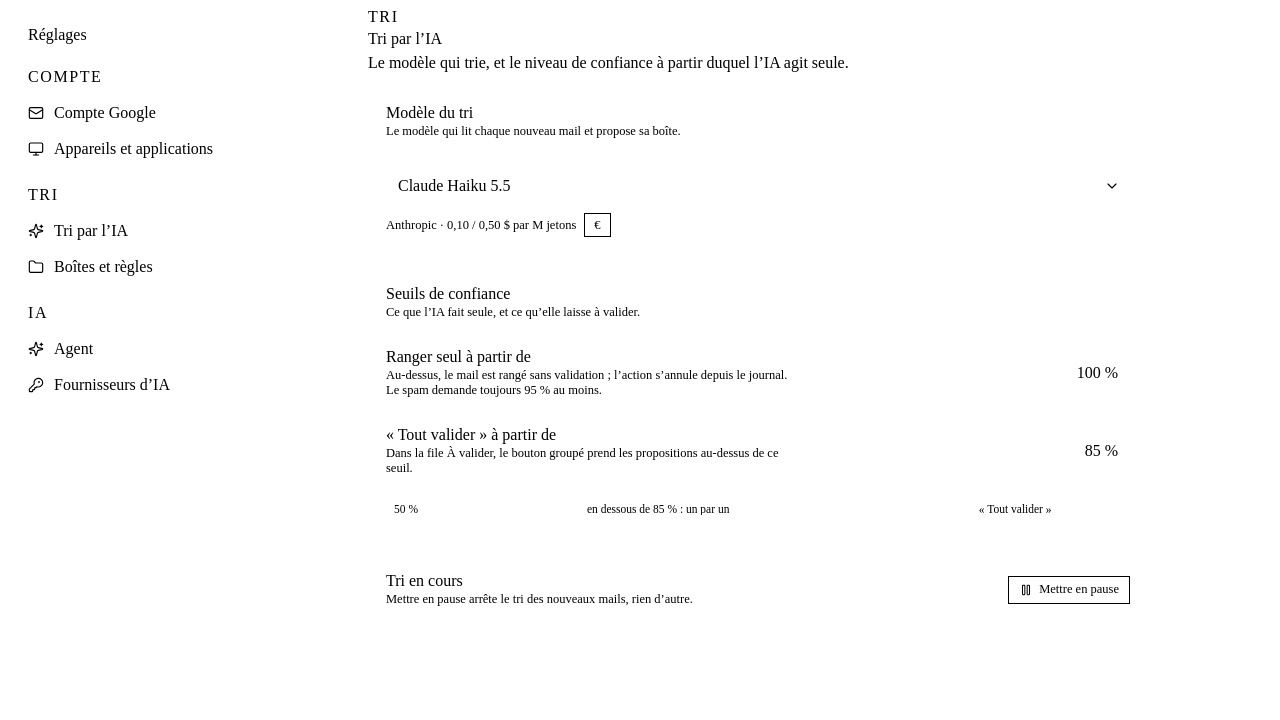
Settings › adds a rule by completing the sentence
Expected: the heading "Réglages" is shown, [28, 26, 87, 43]
Click the link "Boîtes et règles" at (90, 266), box [28, 258, 153, 275]
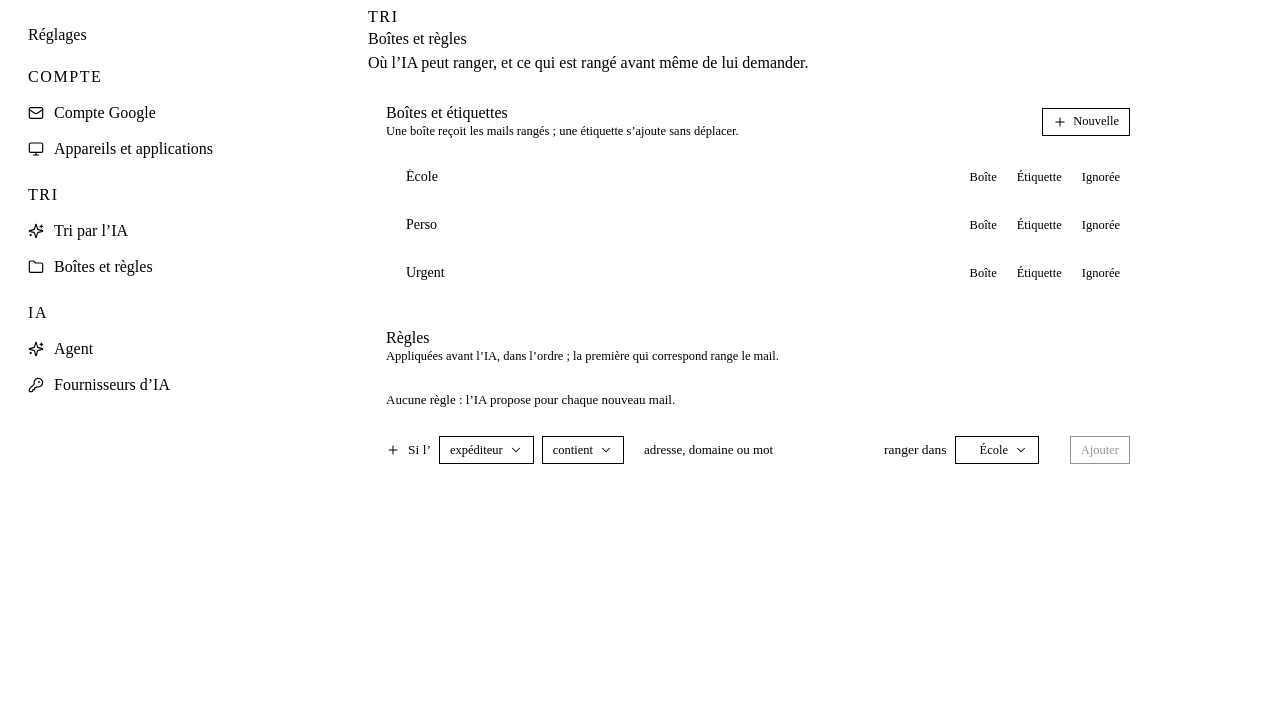
Type "ecole.fr" into the field named "Valeur" at (754, 450), box [644, 436, 864, 464]
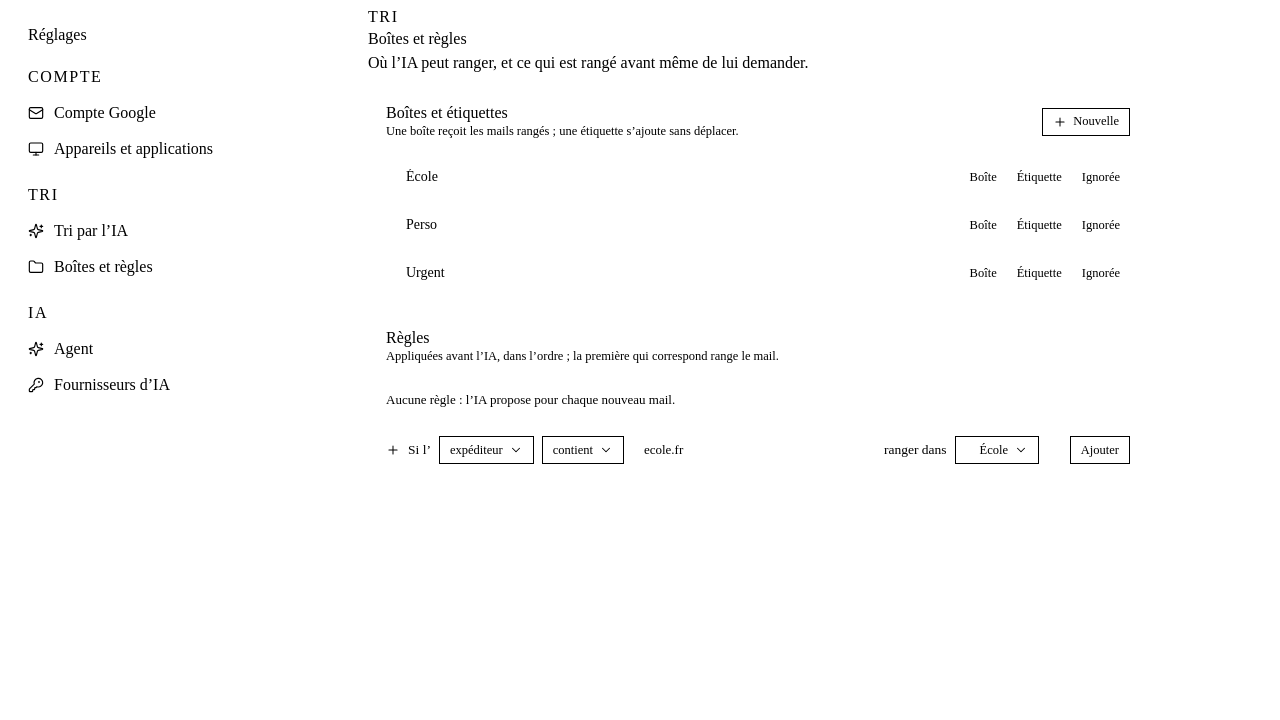
Click the button "Ajouter" at (1100, 450), box [1070, 436, 1130, 464]
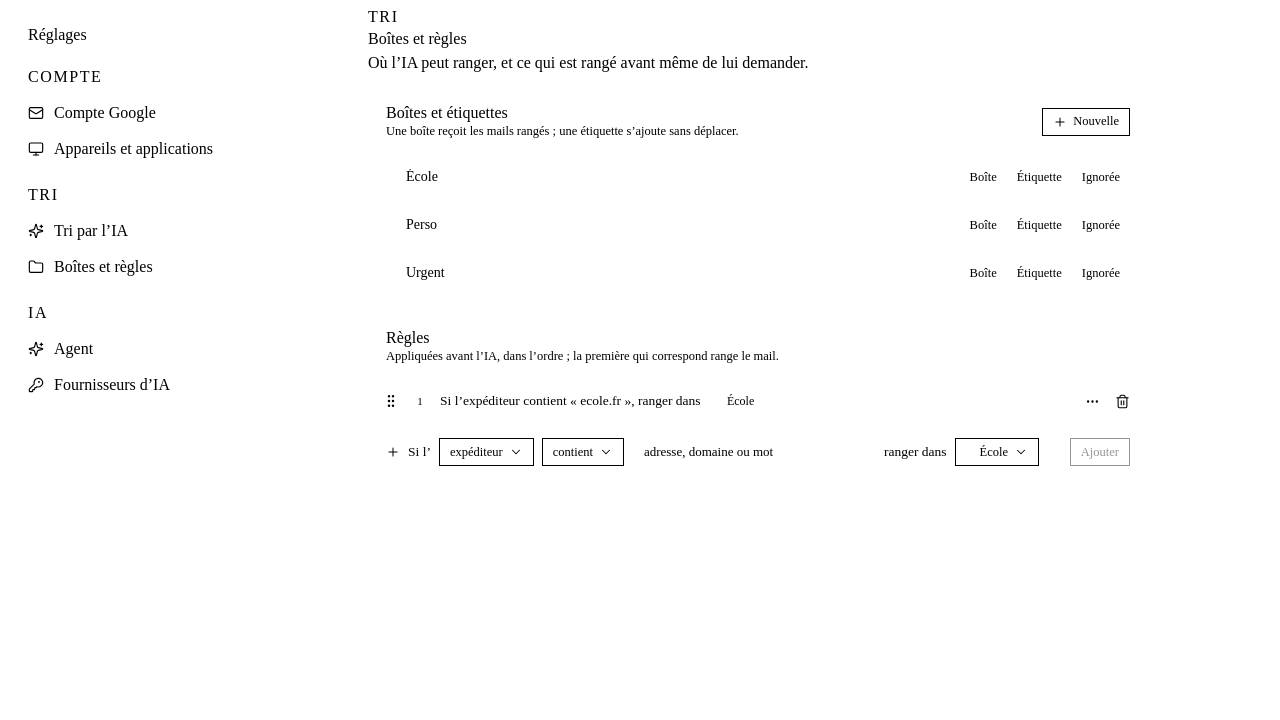
Result: the text "ecole.fr" is shown at [580, 392, 621, 408]
